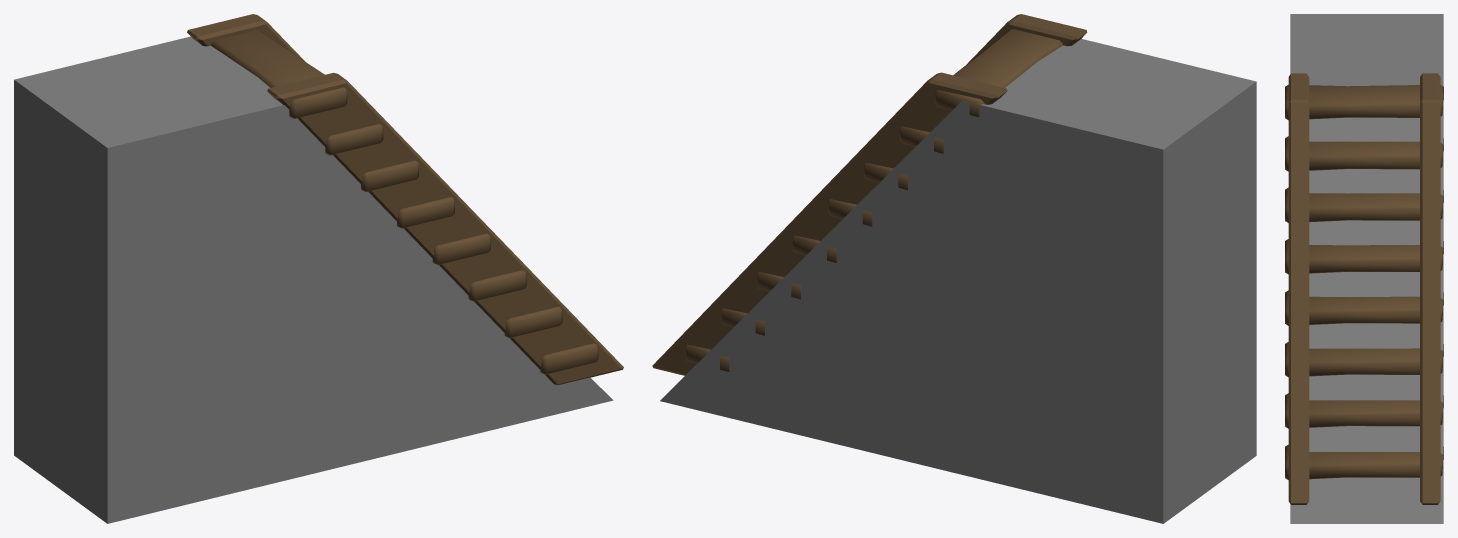
Rendered from StairsKitchen.fbx.
The picture shows the model from 3 angles, left to right: view 1: azimuth 30°, elevation 25°; view 2: azimuth 150°, elevation 25°; view 3: azimuth 270°, elevation 25°; orthographic projection. The views are drawn at different scales.
Visible parts, largest first — view 1: Cube.038; view 2: Cube.038; view 3: Cube.038.
Part boxes in pixels (x1,y1,x2,y2): Cube.038: (14,14,623,523); Cube.038: (652,14,1256,523); Cube.038: (1285,14,1443,523).
Bounding box in the file's own units: 3.76 × 2.69 × 1.22.
